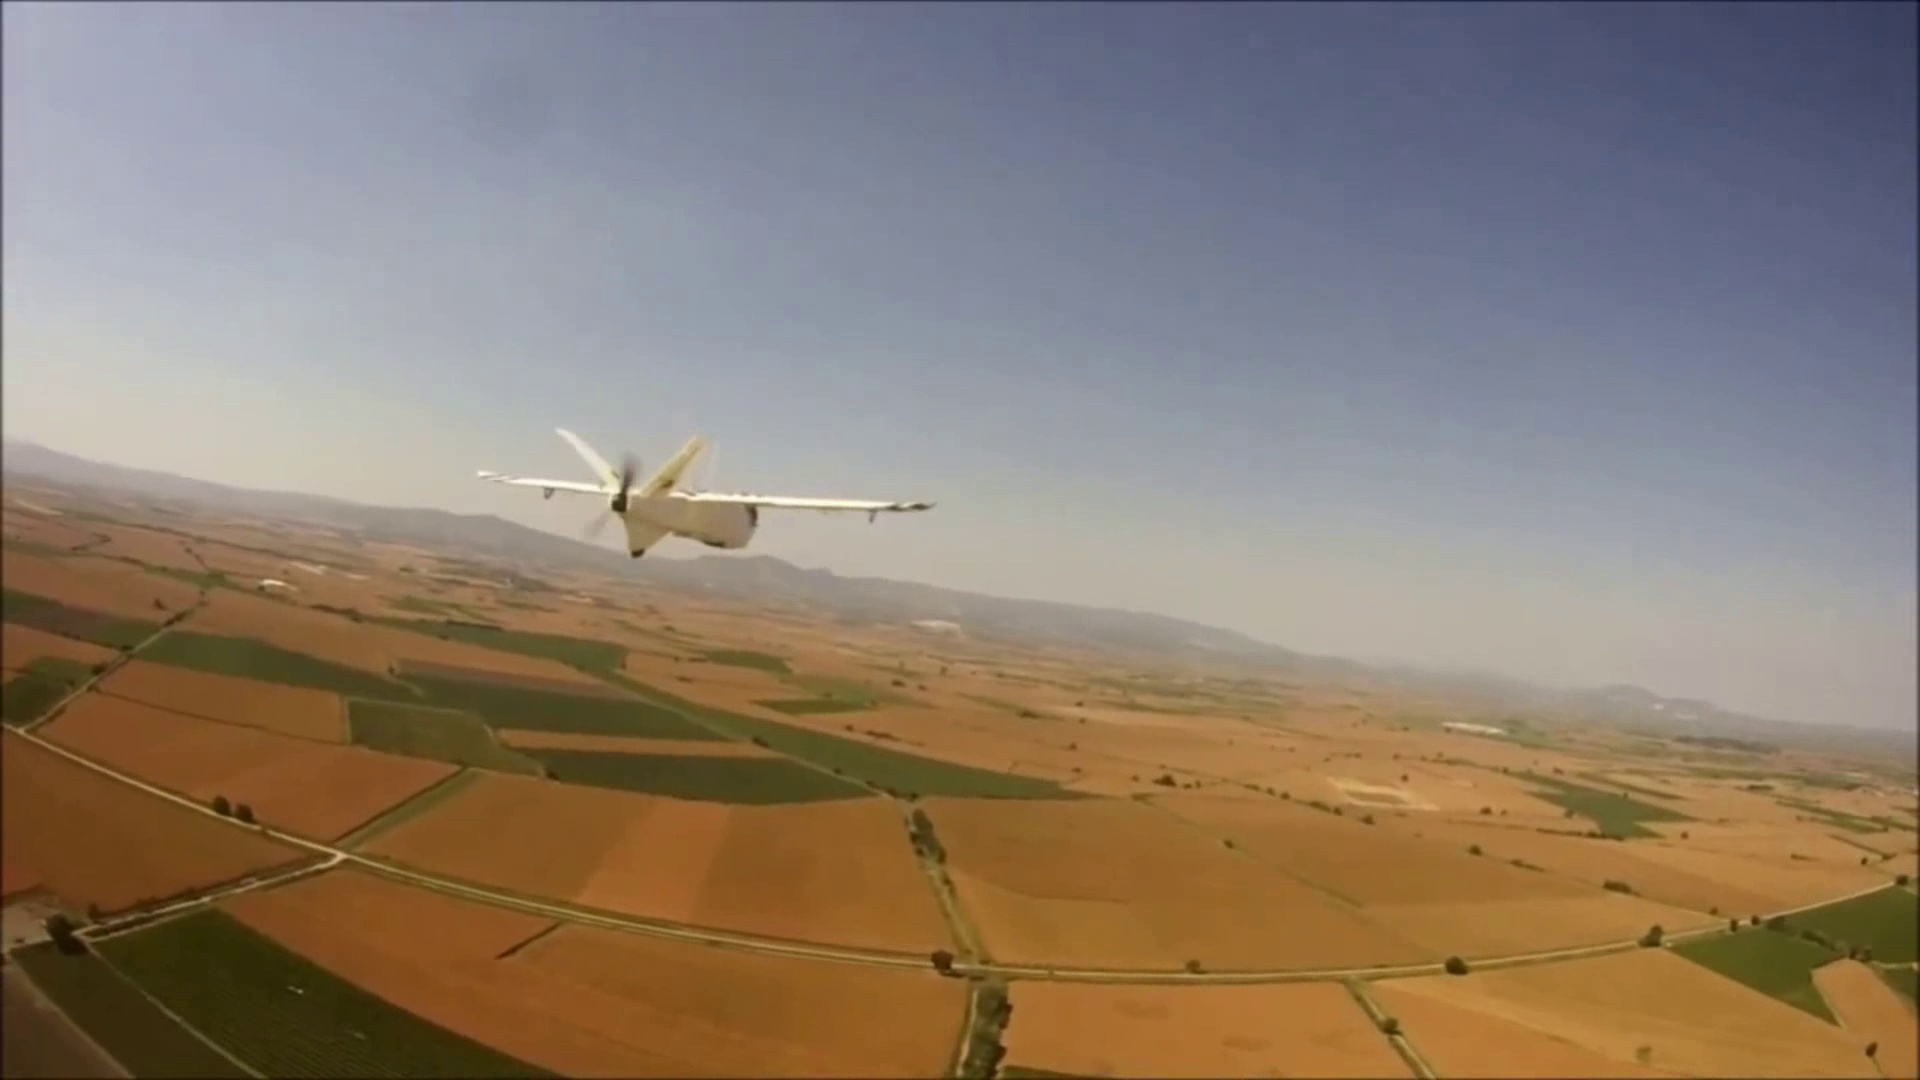airplane: (7, 434, 1889, 1069), (475, 426, 937, 561)
